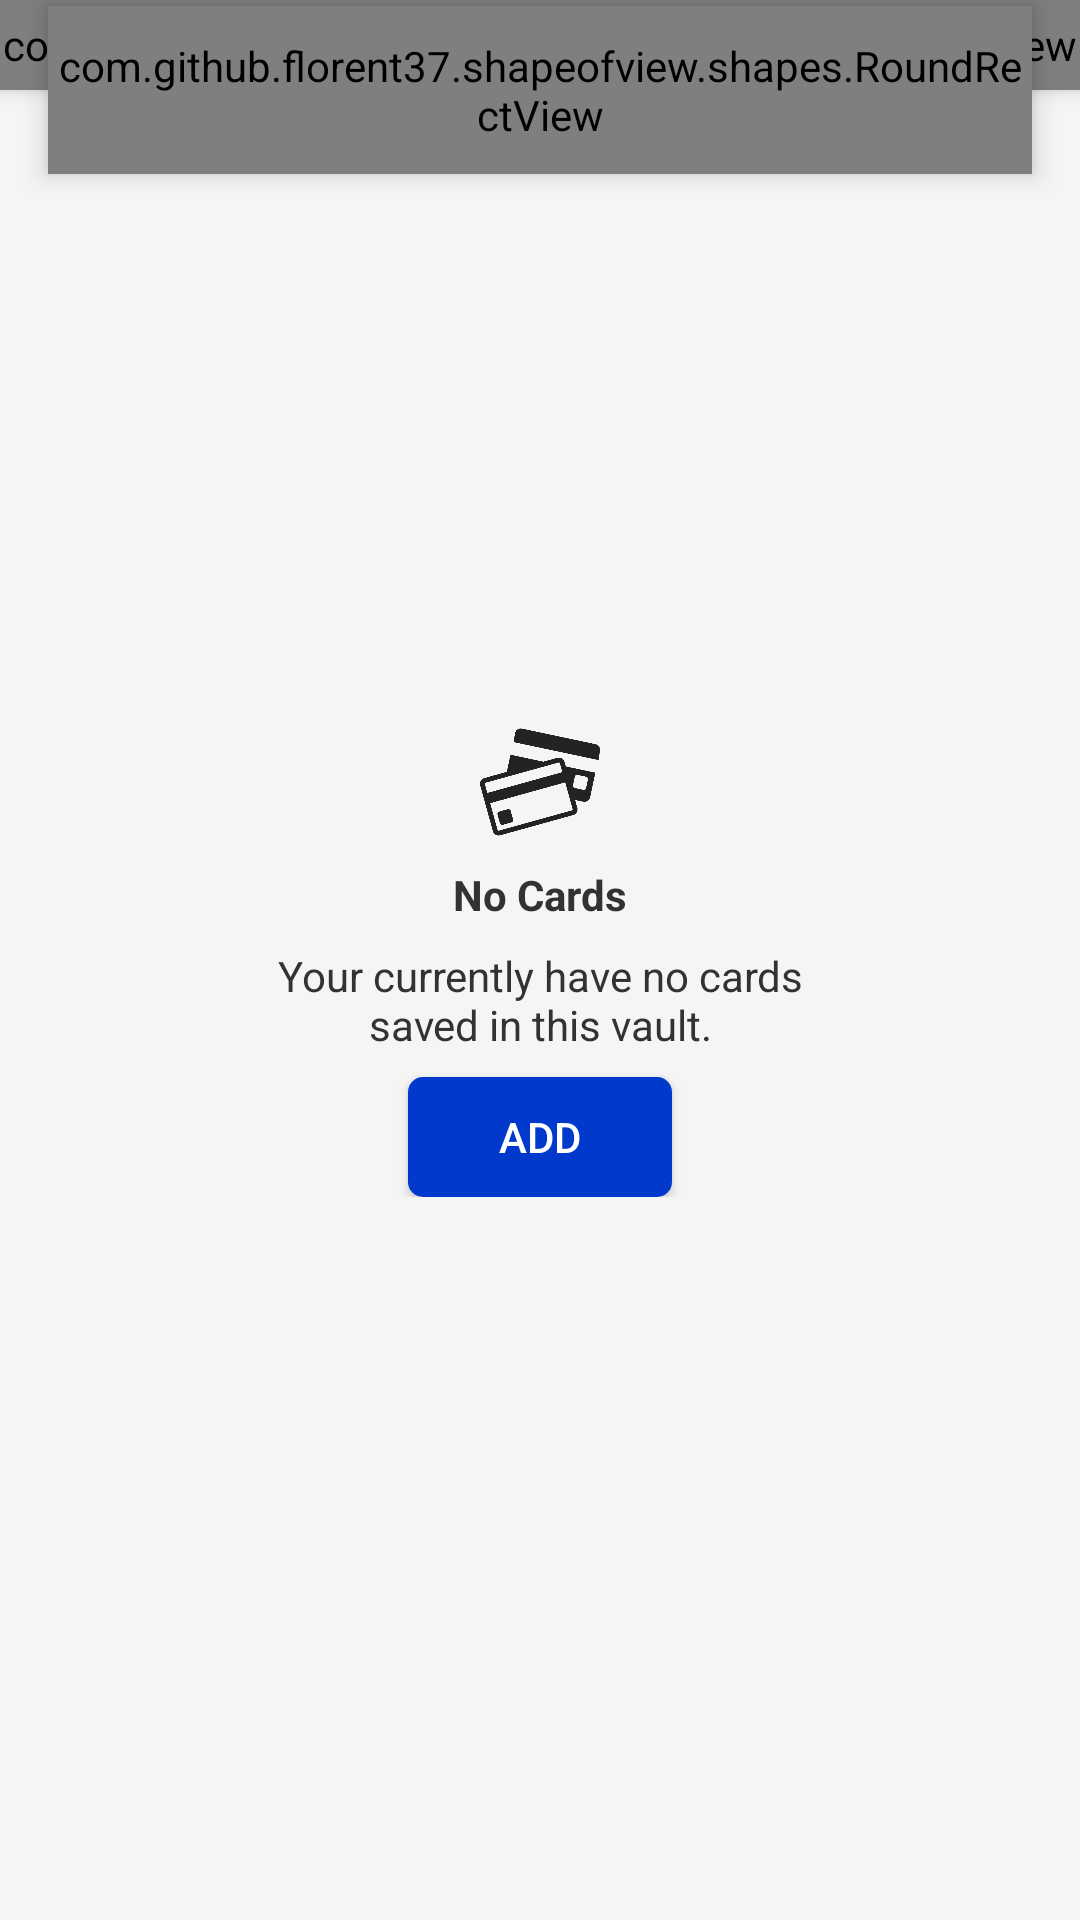

Icons on this 1080 × 1920 Android screen, each with the point to tap as point (x, y):
credit cards: point (540, 782)
